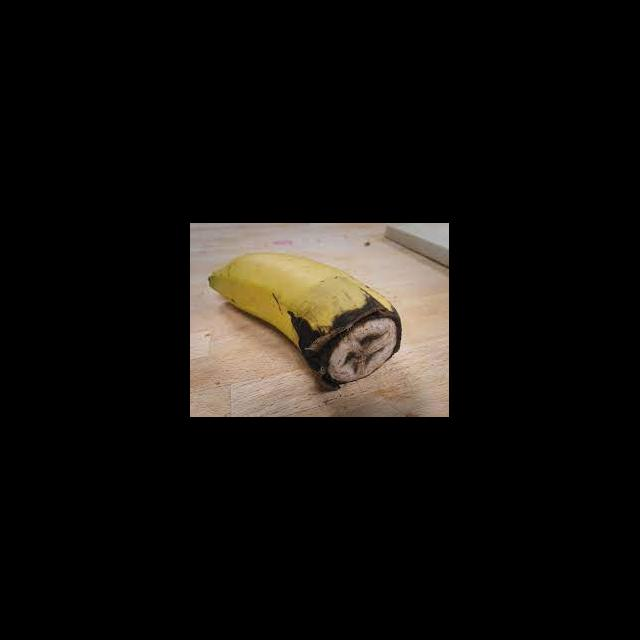food_waste: (205, 244, 415, 399)
